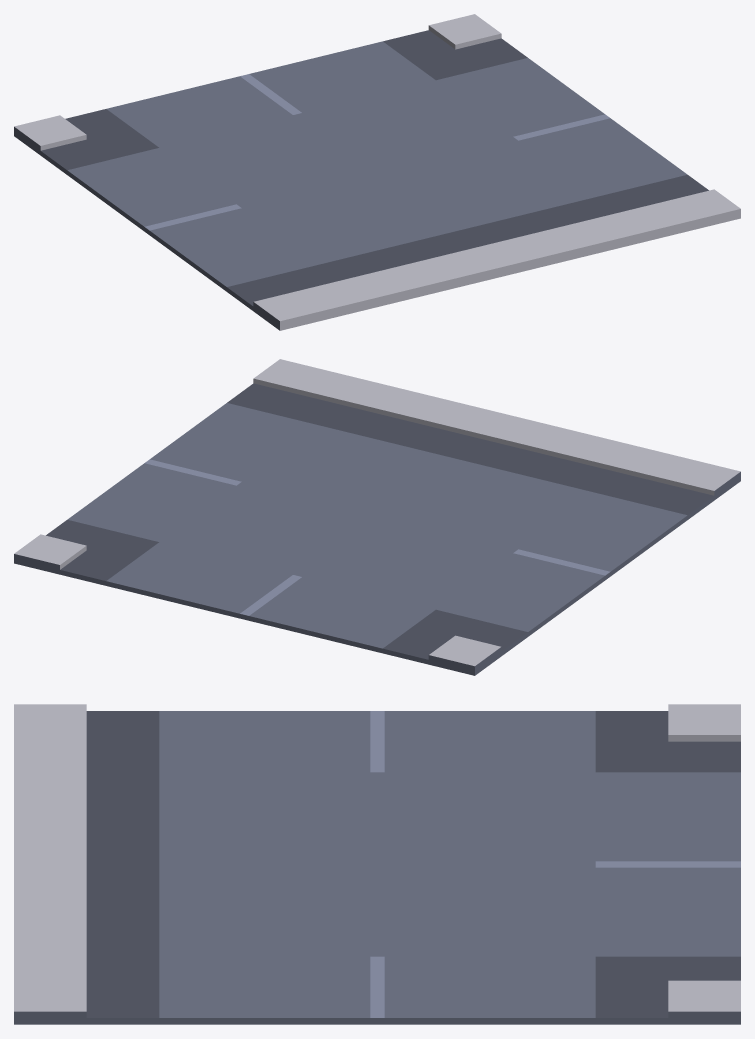
File: Road Intersection.glb
The picture shows the model from 3 angles, top to bottom: view 1: azimuth 30°, elevation 25°; view 2: azimuth 150°, elevation 25°; view 3: azimuth 270°, elevation 25°; orthographic projection. The views are drawn at different scales.
Parts seen in each view (by area): view 1: road_intersection; view 2: road_intersection; view 3: road_intersection.
Part boxes in pixels (bbox=[...]): road_intersection: bbox=[14, 14, 740, 330]; road_intersection: bbox=[14, 359, 740, 675]; road_intersection: bbox=[14, 704, 740, 1024].
Bounding box in the file's own units: 1 × 0.02 × 1.
